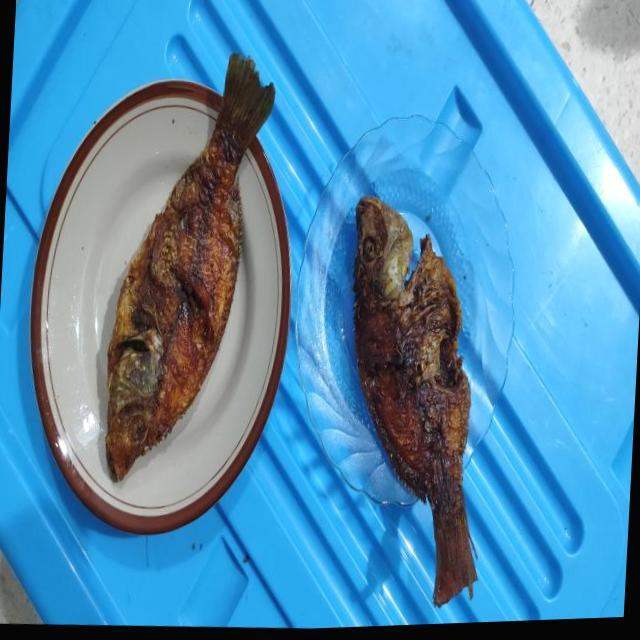ikan_mujair: (106, 53, 275, 480), (353, 196, 477, 607)
